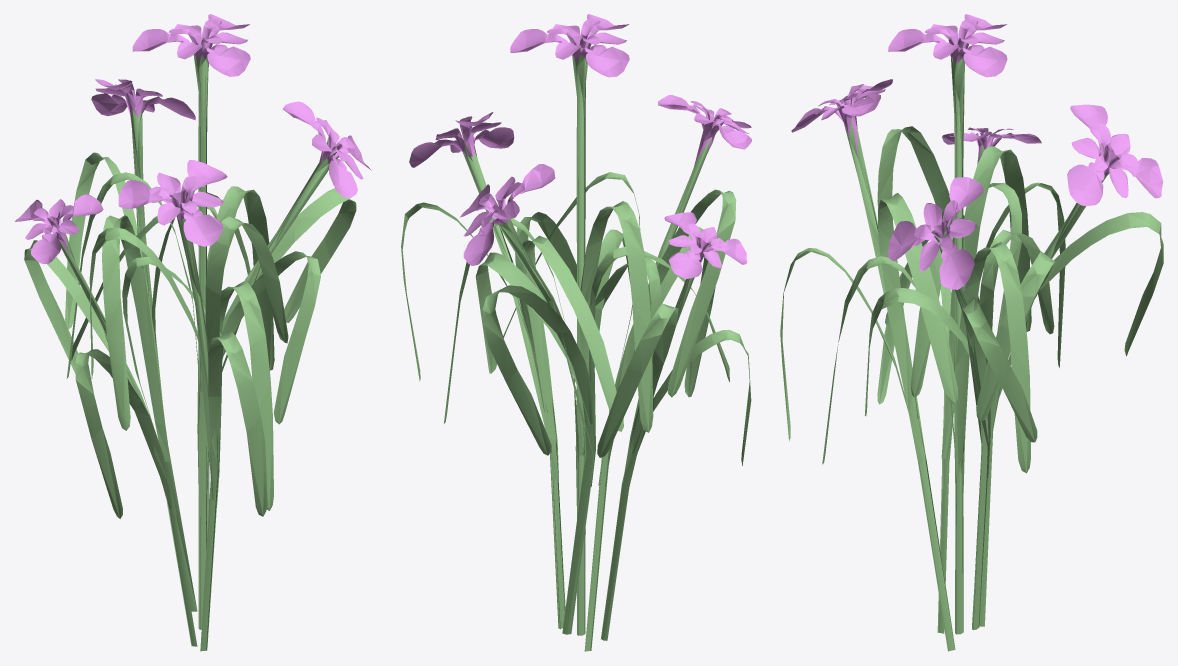
File: Iris_Flower.fbx
3 renders of one model, left to right at view 1: azimuth 30°, elevation 25°; view 2: azimuth 150°, elevation 25°; view 3: azimuth 270°, elevation 25°, orthographic.
Parts seen in each view (by area): view 1: Iris_Flower; view 2: Iris_Flower; view 3: Iris_Flower.
Boxes of the visible parts, <box> form: Iris_Flower: <box>15,14,371,651</box>; Iris_Flower: <box>401,14,751,651</box>; Iris_Flower: <box>780,14,1163,651</box>.
Bounding box in the file's own units: 4.09 × 7.28 × 4.08.
